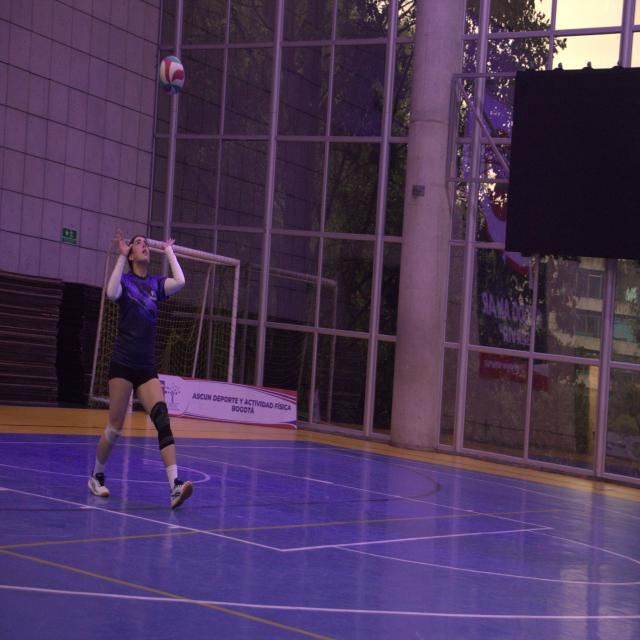volleyball: (158, 55, 185, 95)
